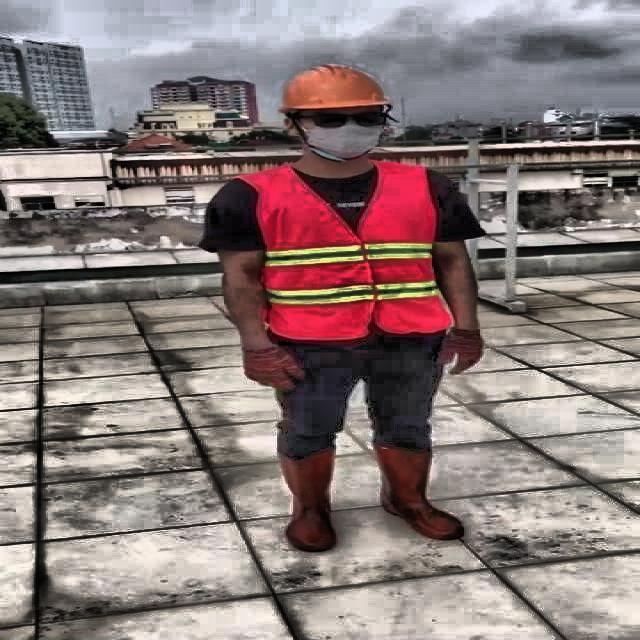safety_helmet: (278, 61, 389, 112)
safety_jacket: (253, 165, 447, 338)
